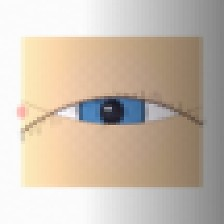pinguecula_lesion: (20, 100, 58, 131)
